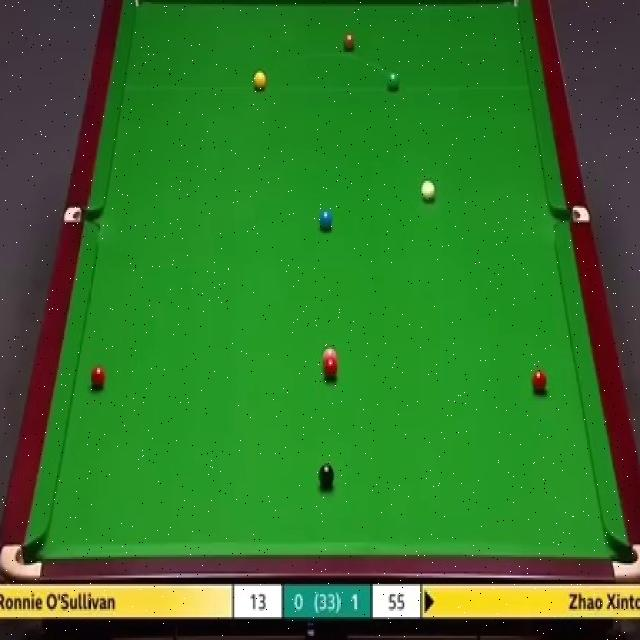black-ball: (317, 463, 336, 487)
blue-ball: (317, 208, 334, 232)
brown-ball: (342, 34, 355, 54)
green-ball: (386, 70, 400, 92)
pink-ball: (322, 347, 337, 361)
red-ball: (530, 368, 548, 394), (89, 364, 106, 390), (324, 358, 338, 380)
white-ball: (420, 179, 438, 203)
yellow-ball: (252, 70, 266, 91)
